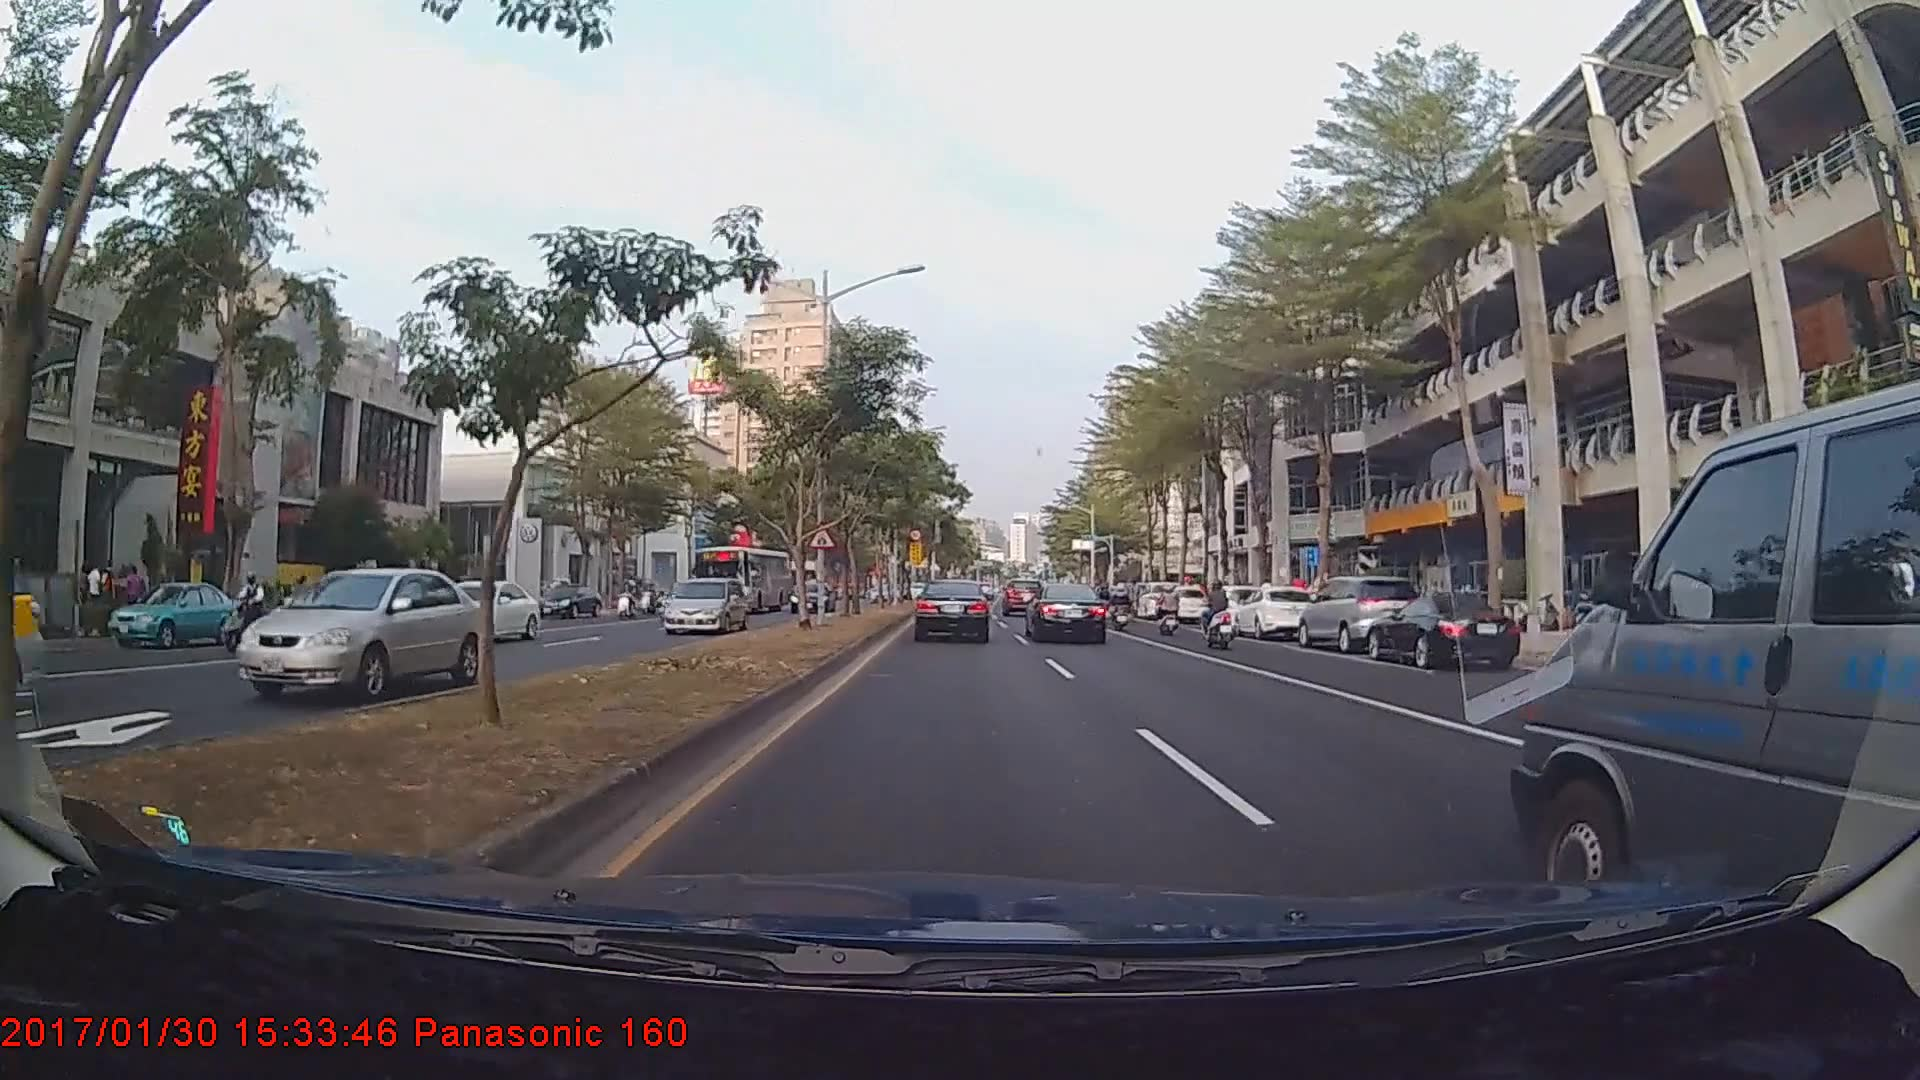rider: (221, 570, 277, 658), (1192, 582, 1243, 656), (1149, 582, 1189, 646), (1109, 585, 1134, 637)
vehicle: (1527, 398, 1915, 898), (233, 568, 483, 702), (1364, 595, 1524, 671), (1295, 572, 1423, 654), (104, 582, 239, 650), (419, 579, 540, 645), (697, 547, 790, 619), (661, 578, 750, 637), (912, 578, 992, 644), (1026, 581, 1107, 644), (1231, 585, 1319, 640), (1198, 586, 1266, 634), (1156, 587, 1207, 624), (1004, 575, 1046, 613), (786, 582, 832, 609)
